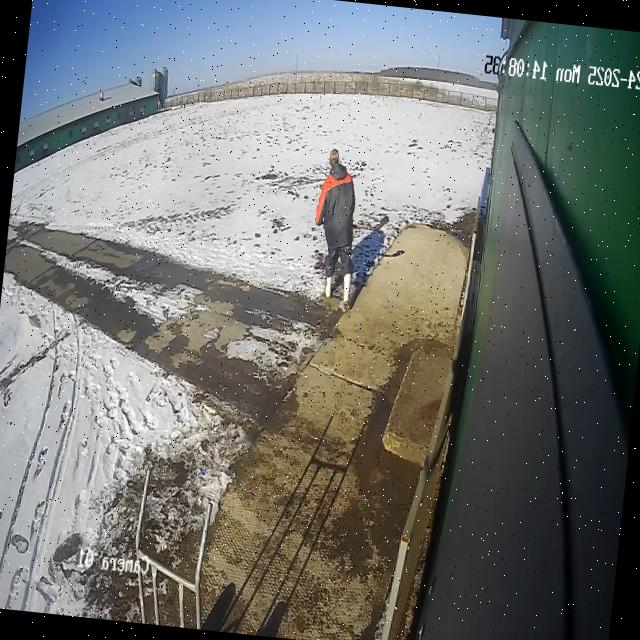Red uniform: (304, 145, 367, 310)
